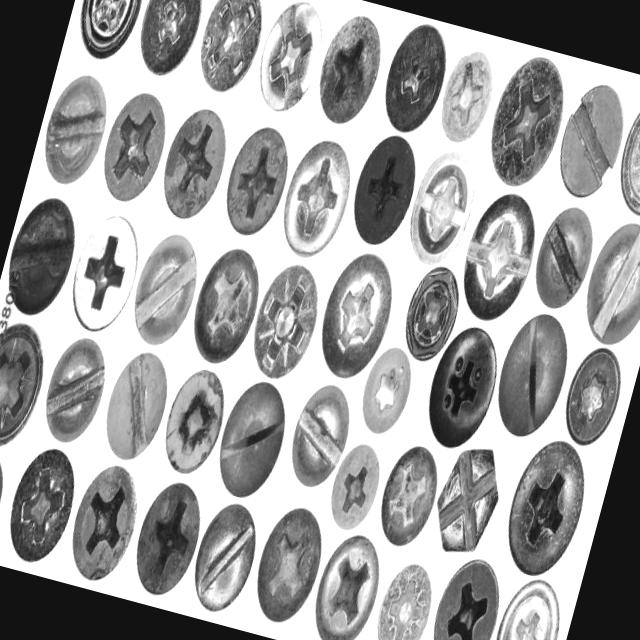Slotted: (479, 304, 583, 449), (538, 73, 640, 207), (27, 56, 121, 194), (203, 374, 297, 508), (118, 218, 210, 353), (515, 194, 611, 320), (178, 494, 270, 625), (0, 187, 87, 318), (29, 334, 118, 454), (94, 348, 178, 472), (279, 370, 362, 494), (575, 216, 640, 355)
